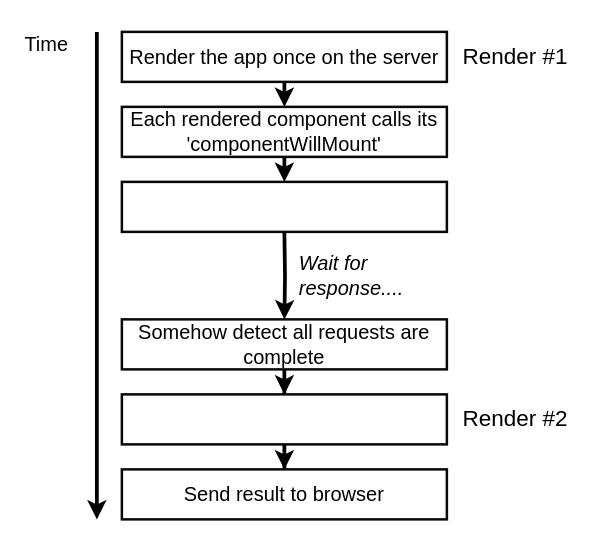
Some shapes in this 593 by 553 pixel diagram are drawn without their labels. Each missing label, with the centre of its shape:
"Call action creators from 'componentWillMount'" goes at pixel 284 206.
"Render the app again with the collected data" goes at pixel 284 418.
